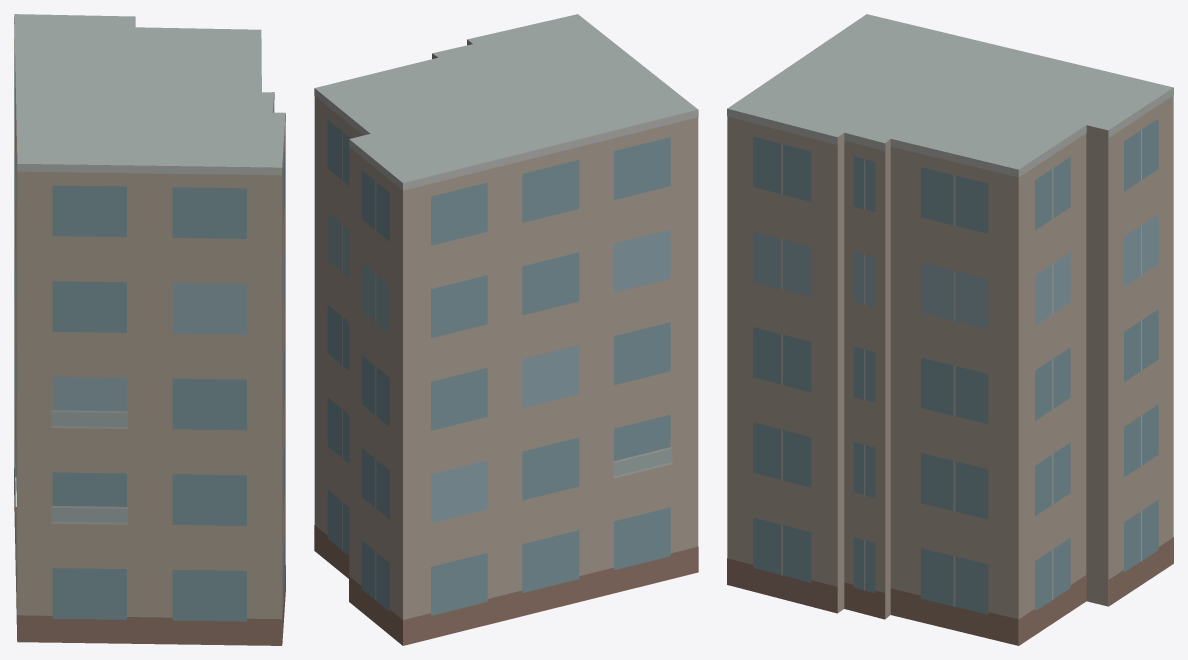
Rendered from survey-upis-32966433.glb.
3 renders of one model, left to right at view 1: azimuth 30°, elevation 25°; view 2: azimuth 150°, elevation 25°; view 3: azimuth 270°, elevation 25°, orthographic. The views are drawn at different scales.
Parts seen in each view (by area): view 1: survey-upis-32966433.tmp; view 2: survey-upis-32966433.tmp; view 3: survey-upis-32966433.tmp.
Boxes of the visible parts, box(x1,y1,x2,y2) form: survey-upis-32966433.tmp: box(14, 14, 285, 645); survey-upis-32966433.tmp: box(314, 14, 698, 645); survey-upis-32966433.tmp: box(727, 14, 1173, 645).
Bounding box in the file's own units: 10.46 × 14.9 × 12.67.
